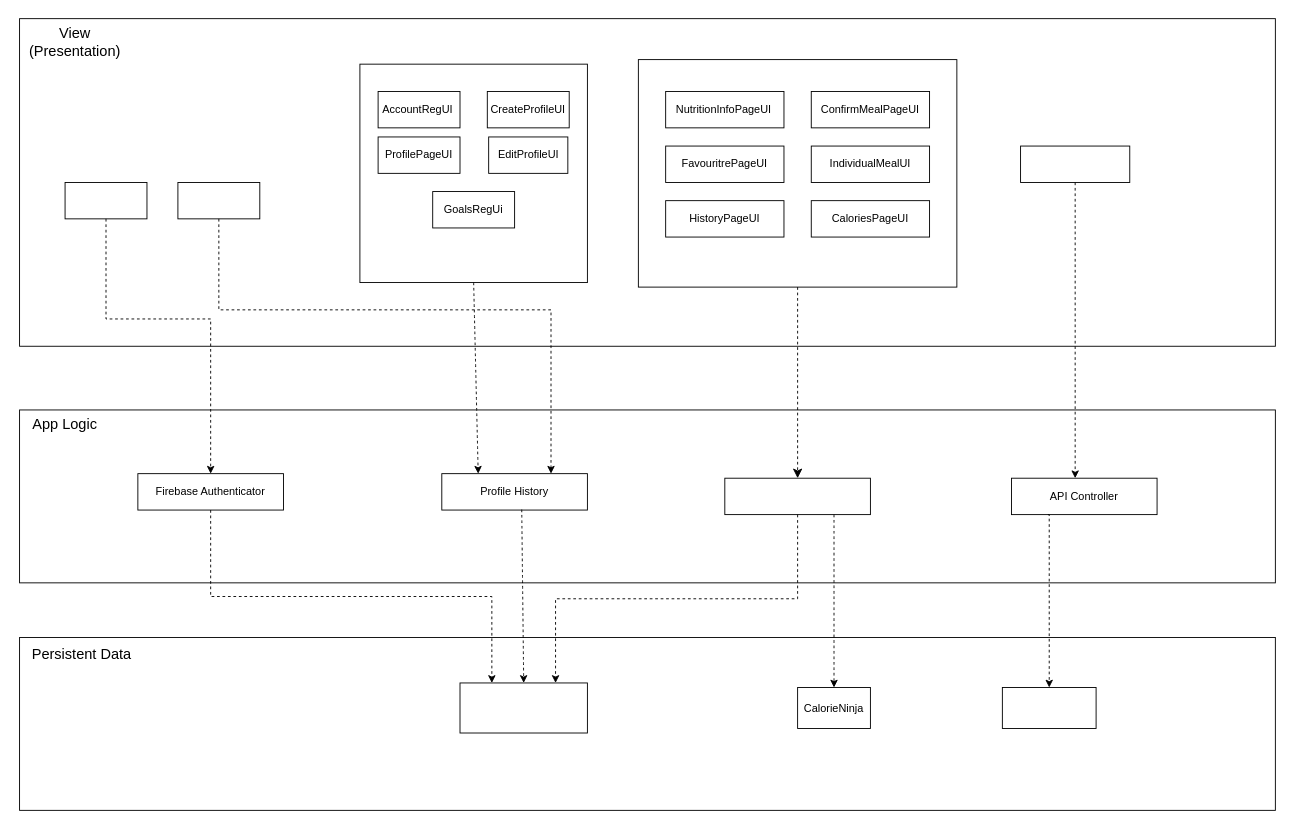
The diagram is 1291 pixels wide and 826 high, and some of its shapes have lost their labels. Each missing label, with the box of its shape:
Clarifai: (1001, 687, 1096, 728)
Firestore Database: (459, 682, 587, 733)
HomePageUI: (177, 182, 260, 219)
Login UI: (64, 182, 147, 219)
Meal History: (724, 477, 870, 515)
ScannerPageUI: (1020, 145, 1130, 182)
